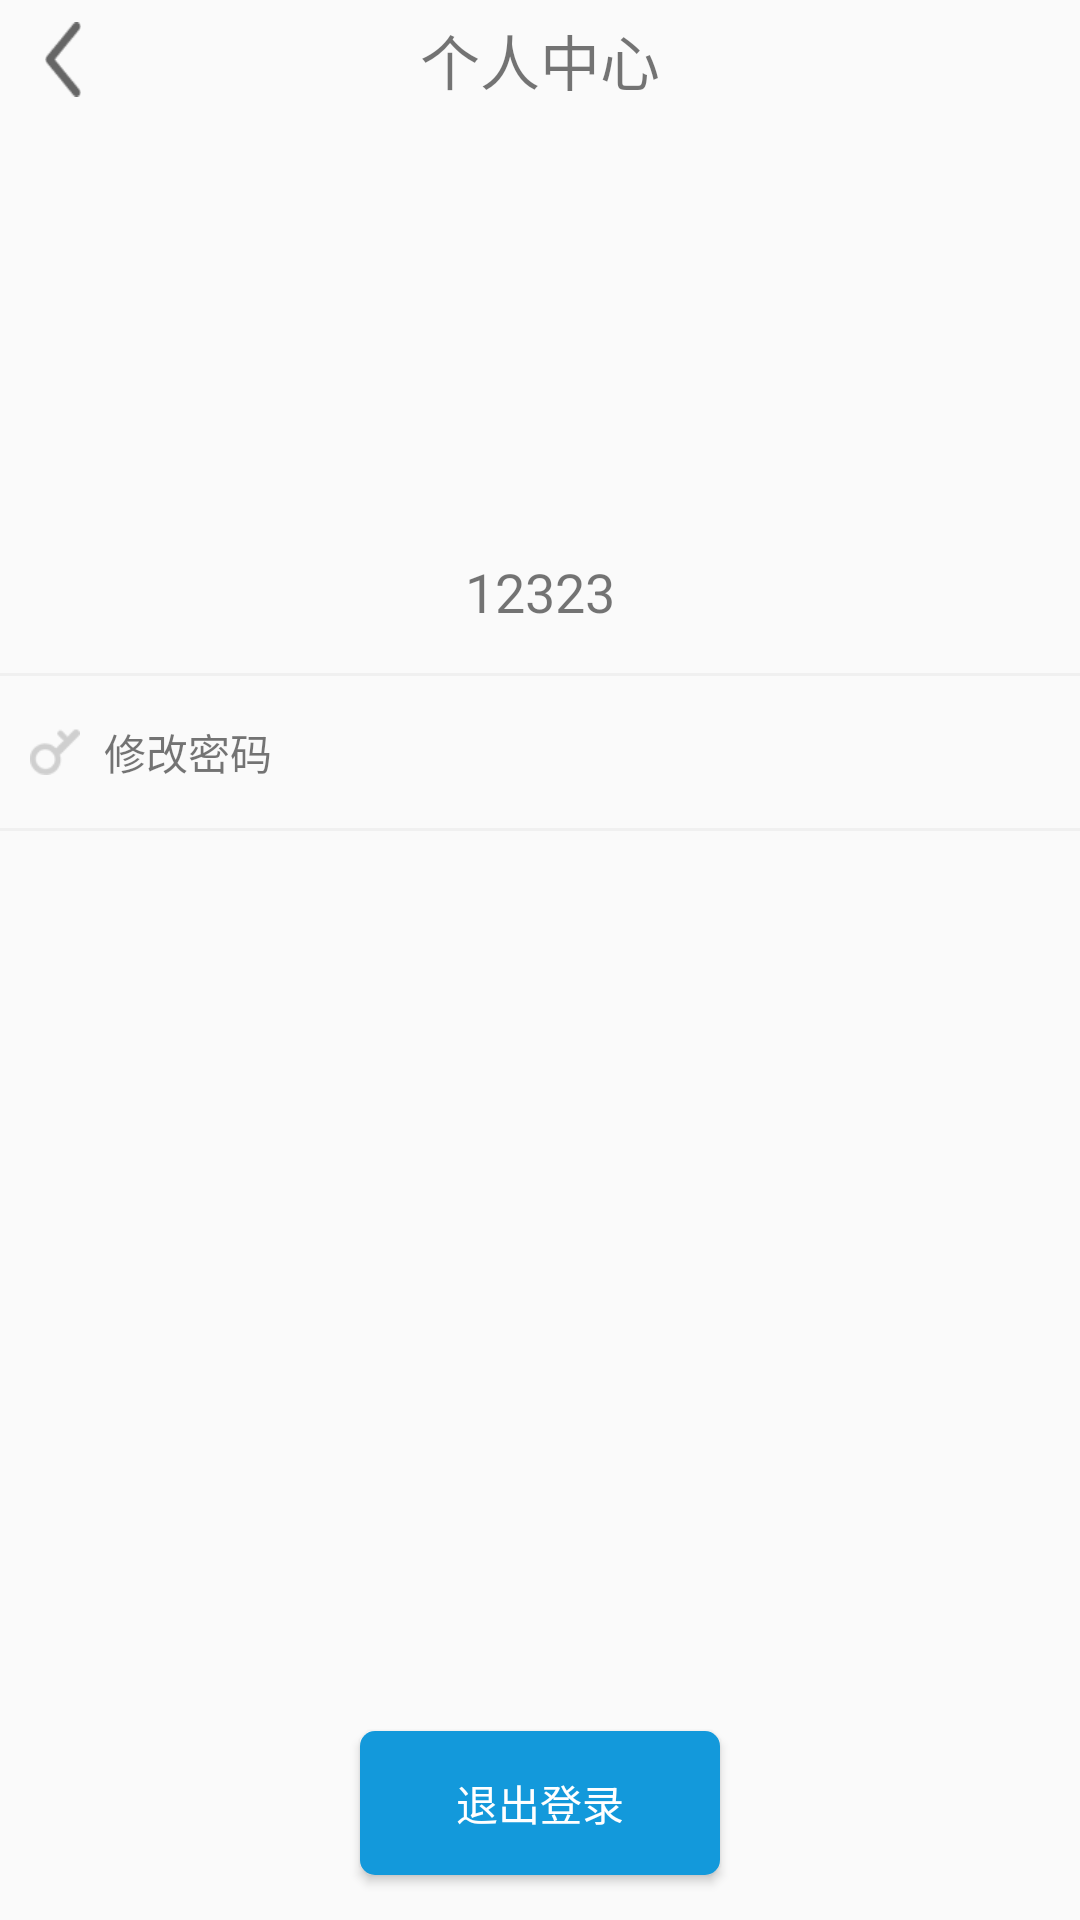

Icon bounding boxes for this 1080w x 1920h phone screenshot, format region(x1, y1, x2, y2):
back: region(45, 22, 81, 97)
